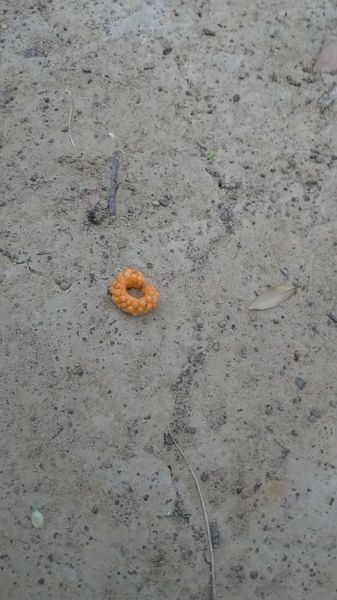eggs: (111, 262, 161, 322)
